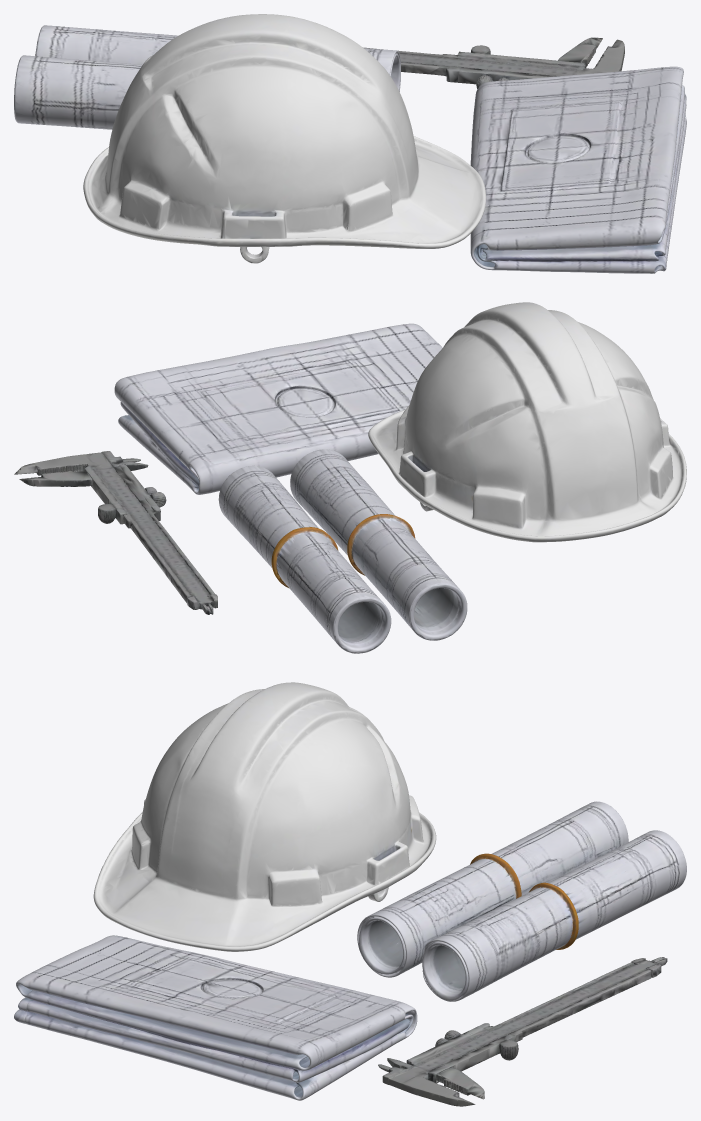
The model's file is bench.glb.
3 renders of one model, top to bottom at view 1: azimuth 30°, elevation 25°; view 2: azimuth 150°, elevation 25°; view 3: azimuth 270°, elevation 25°, orthographic. The views are drawn at different scales.
Visible parts, largest first — view 1: tripo_node_ed56d8e0-729a-4f41-85f6-e0f7c12fb3d4; view 2: tripo_node_ed56d8e0-729a-4f41-85f6-e0f7c12fb3d4; view 3: tripo_node_ed56d8e0-729a-4f41-85f6-e0f7c12fb3d4.
Boxes of the visible parts, x1,y1,x2,y2 form: tripo_node_ed56d8e0-729a-4f41-85f6-e0f7c12fb3d4: (14, 14, 686, 273); tripo_node_ed56d8e0-729a-4f41-85f6-e0f7c12fb3d4: (14, 302, 686, 653); tripo_node_ed56d8e0-729a-4f41-85f6-e0f7c12fb3d4: (14, 682, 686, 1106).
Size of the model in its own units: 33971 by 11574 by 33991.
Materials: 1 (1 with a texture image).
